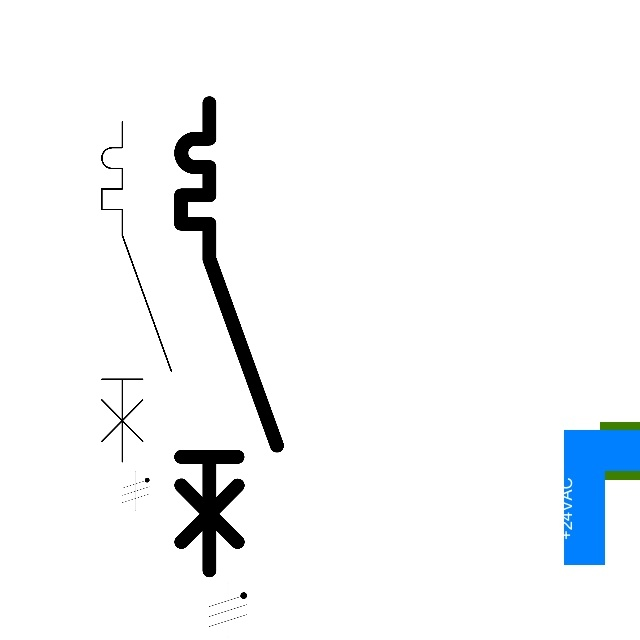interruptor_termomagnetico: (169, 91, 289, 582), (93, 113, 180, 471)
